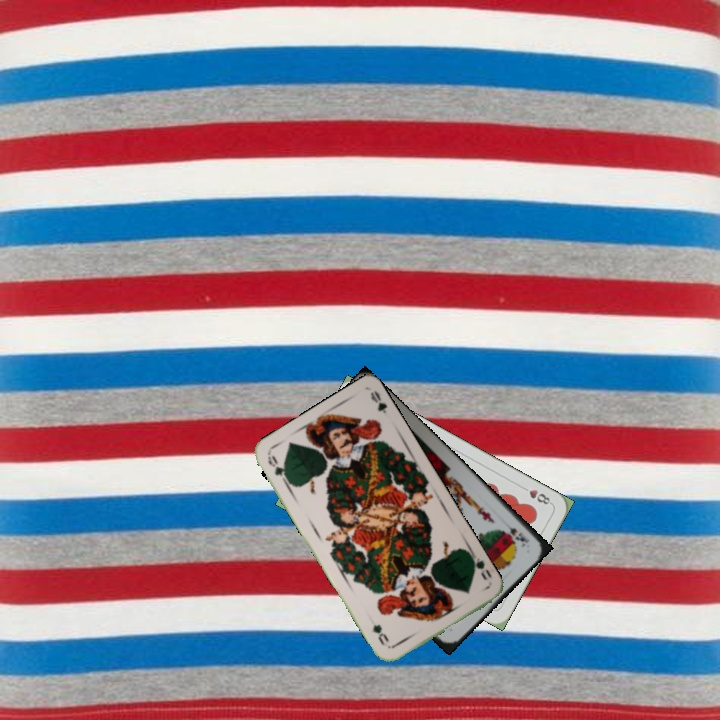GO: (263, 451, 295, 489), (466, 548, 495, 583)
H8: (517, 482, 555, 507)
SK: (499, 516, 532, 550)
